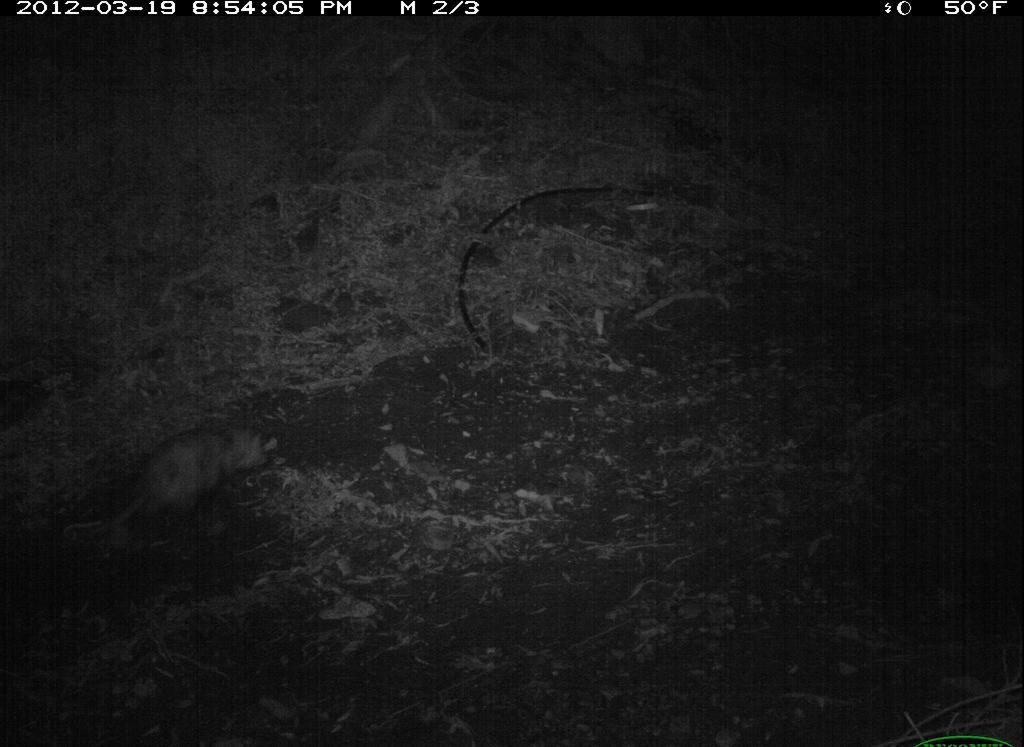opossum: (77, 415, 280, 553)
